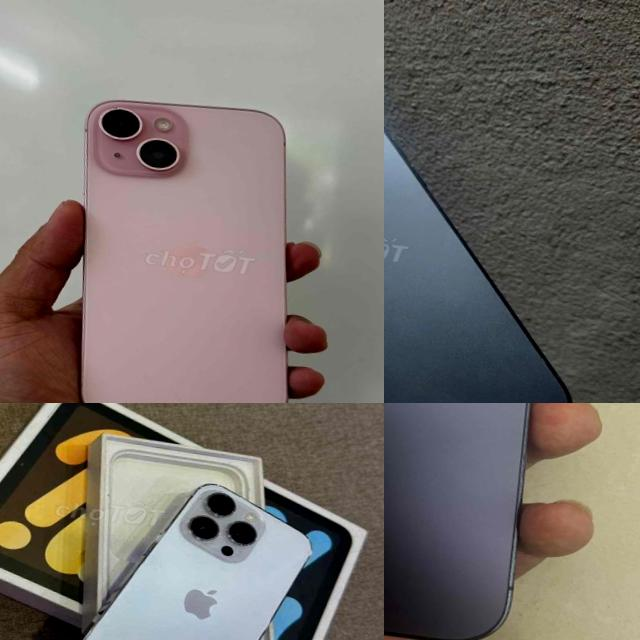gen_14: (384, 48, 612, 403), (384, 403, 574, 640), (82, 485, 309, 640)
gen_15: (26, 74, 367, 403)
